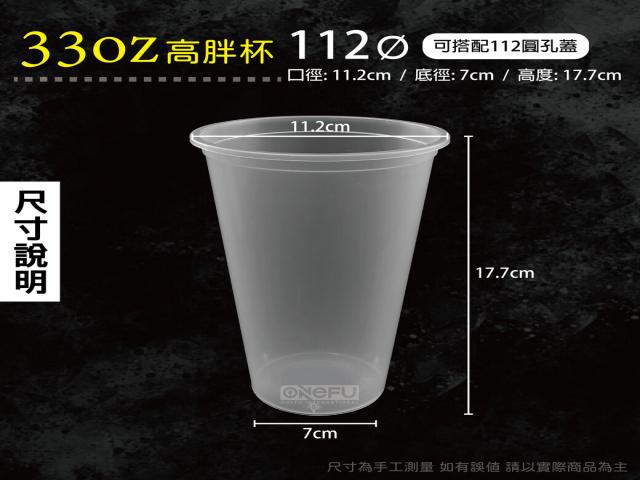cup: (190, 116, 450, 415)
